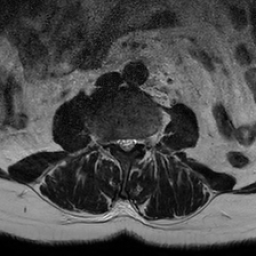CCS_severe_stenosis: (123, 129, 130, 158)
LFS_stenosis: (137, 129, 145, 152)
LLS_normal: (130, 128, 137, 155)
RFS_stenosis: (108, 129, 116, 153)
RLS_stenosis: (116, 130, 123, 155)
